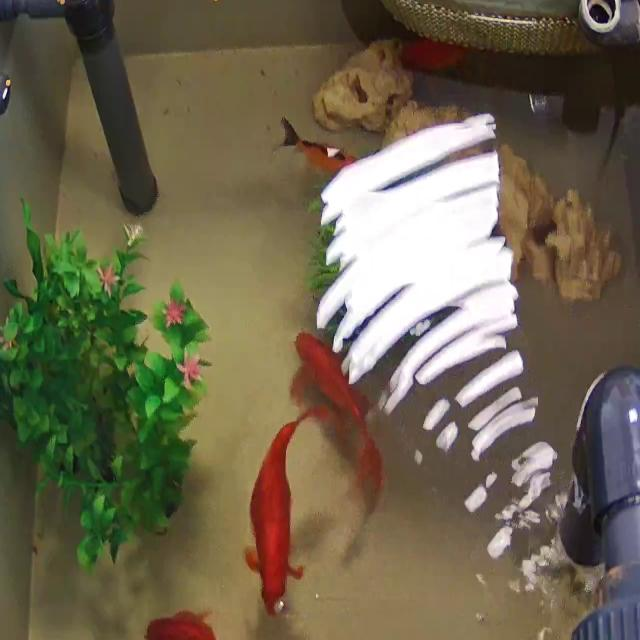fish: (295, 331, 390, 506), (246, 411, 322, 617), (282, 115, 348, 181), (143, 607, 257, 640), (402, 38, 467, 72)
